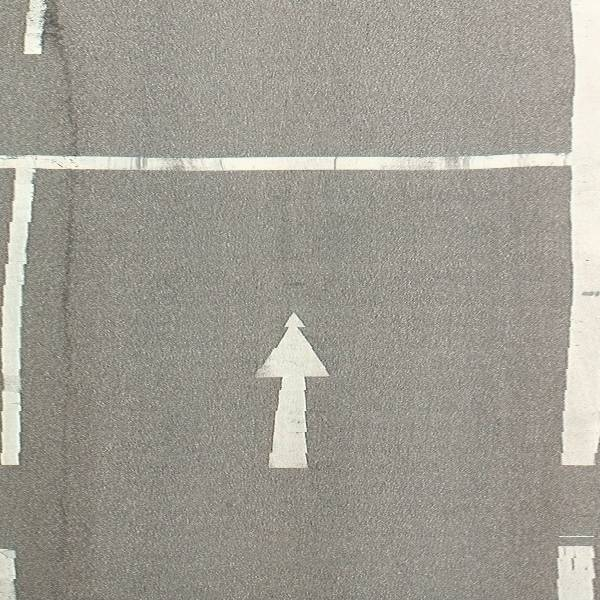road_damage: (45, 4, 81, 152), (60, 208, 77, 364)
